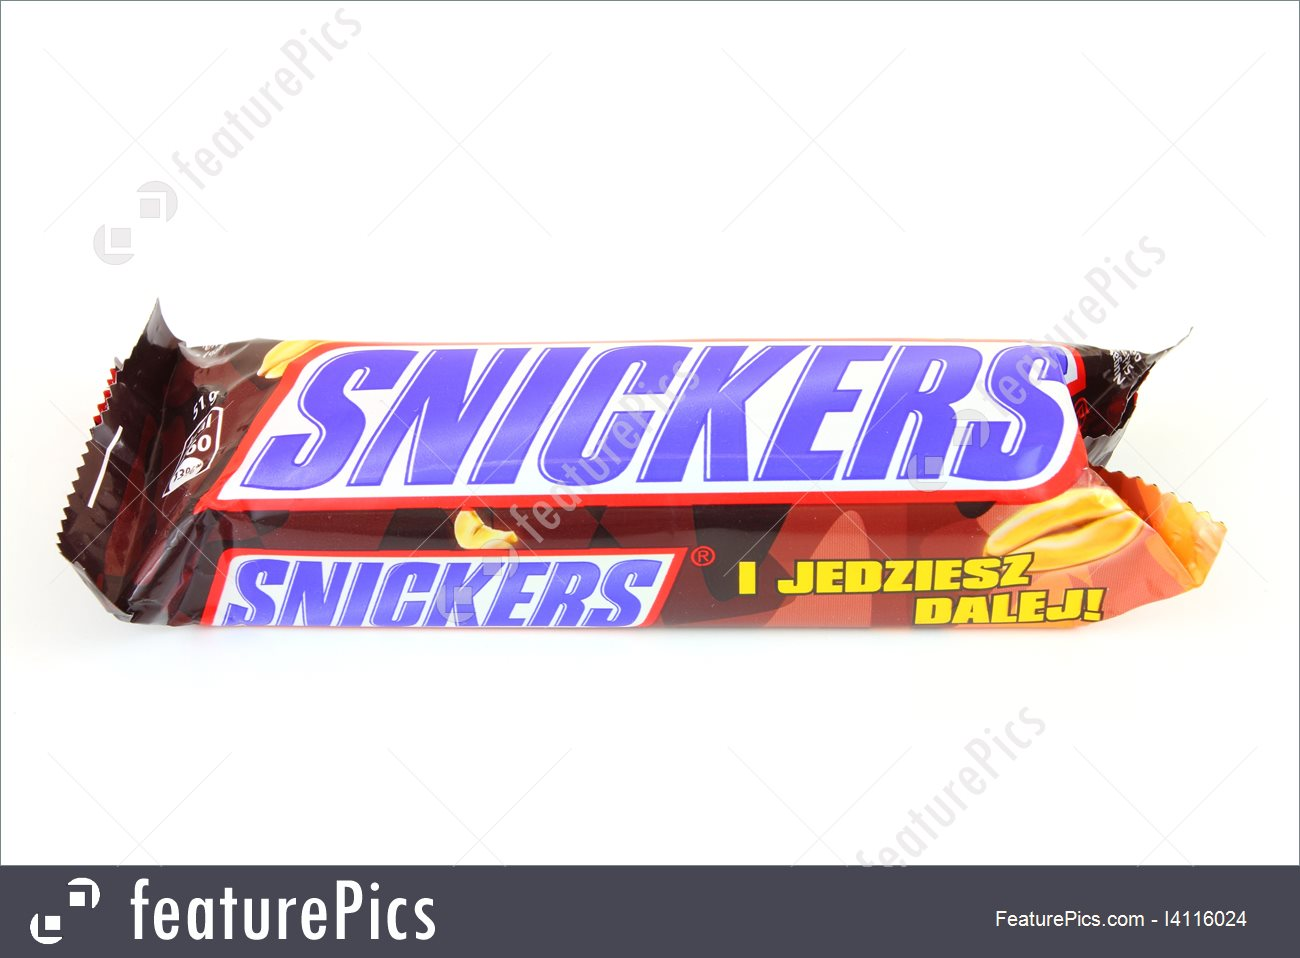snickers: (238, 342, 1073, 487), (238, 342, 1070, 487), (223, 560, 670, 624)
